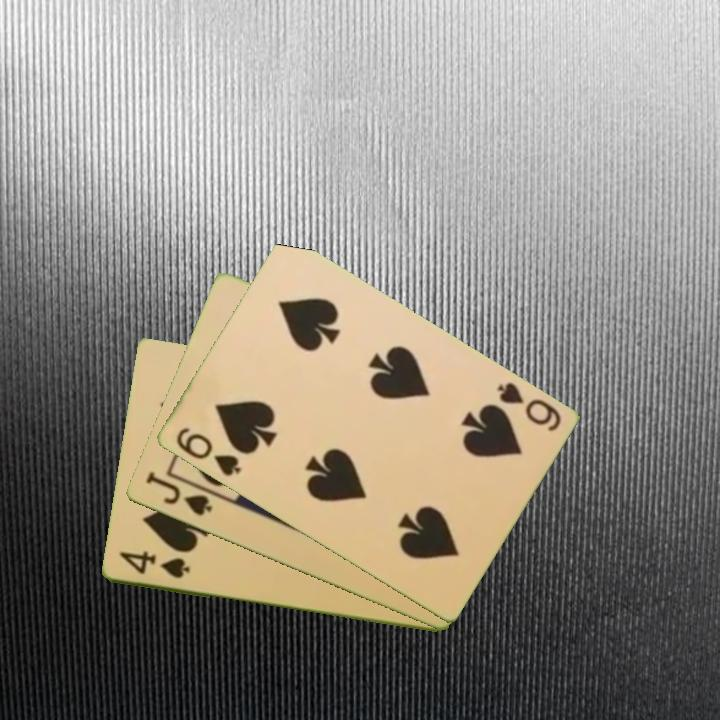4s: (115, 548, 192, 582)
6s: (493, 378, 564, 435), (172, 424, 243, 480)
Js: (142, 468, 215, 519)
